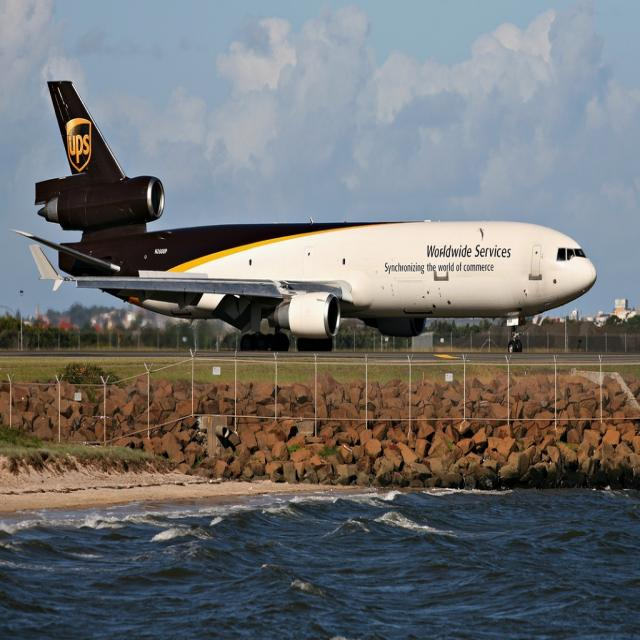ups: (67, 118, 93, 172)
